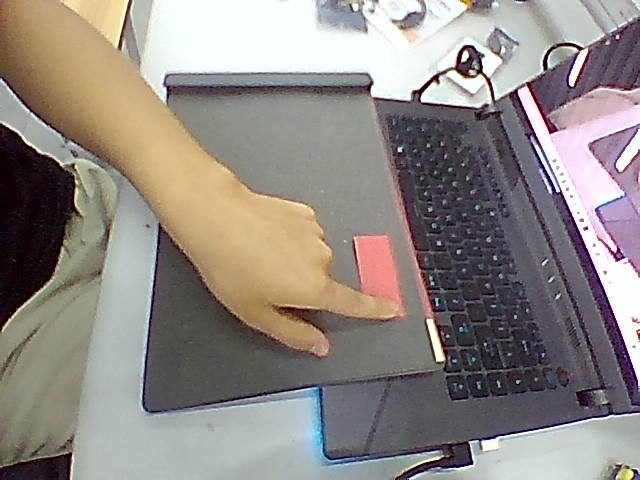card: (354, 237, 405, 315)
